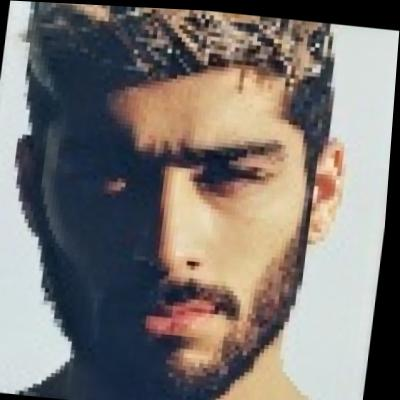angry: (34, 52, 323, 381)
